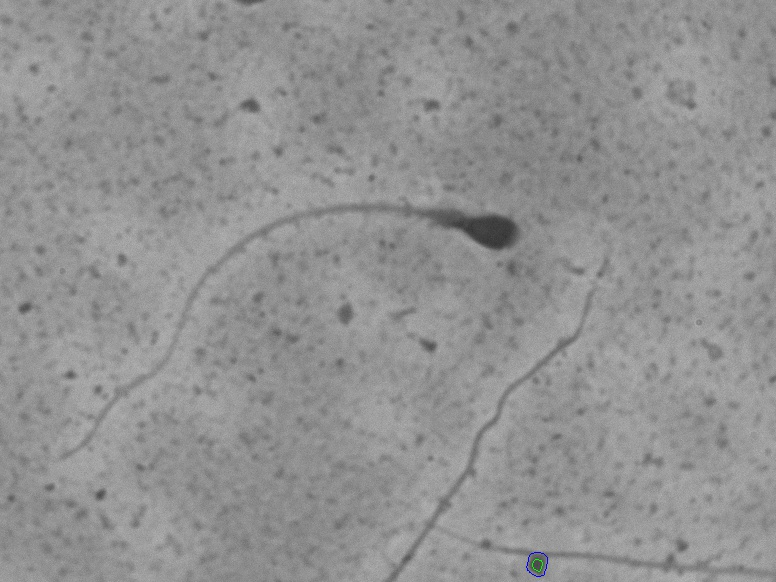Abnormal: (41, 153, 545, 433)
